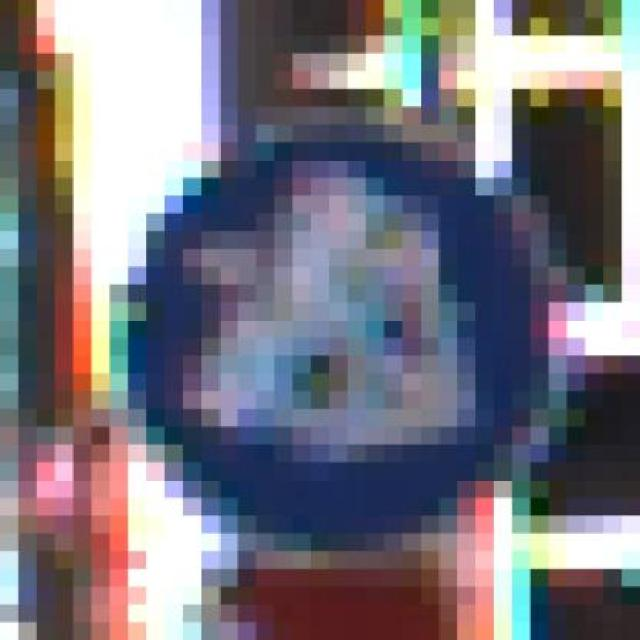Keep-Right: (128, 106, 586, 569)
